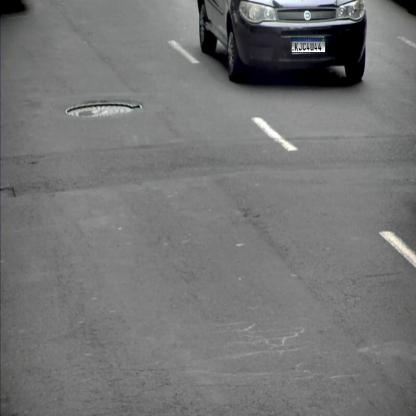PlacaM: (291, 37, 326, 53)
